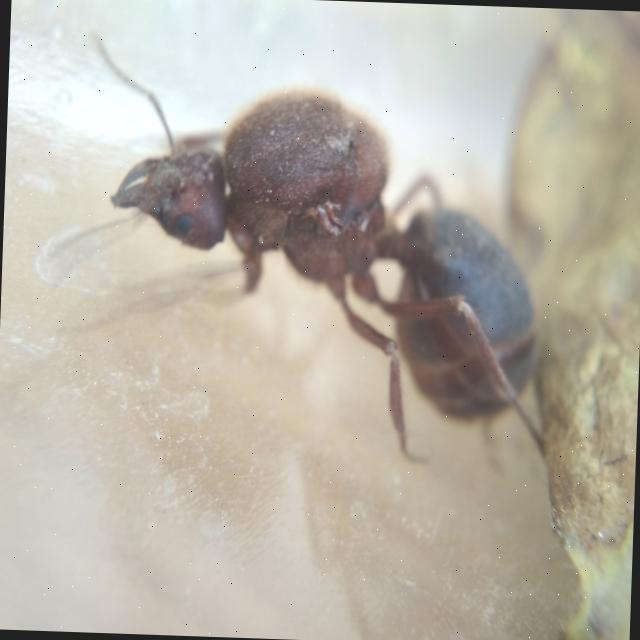Alive-Female-Dealate: (46, 28, 564, 480)
